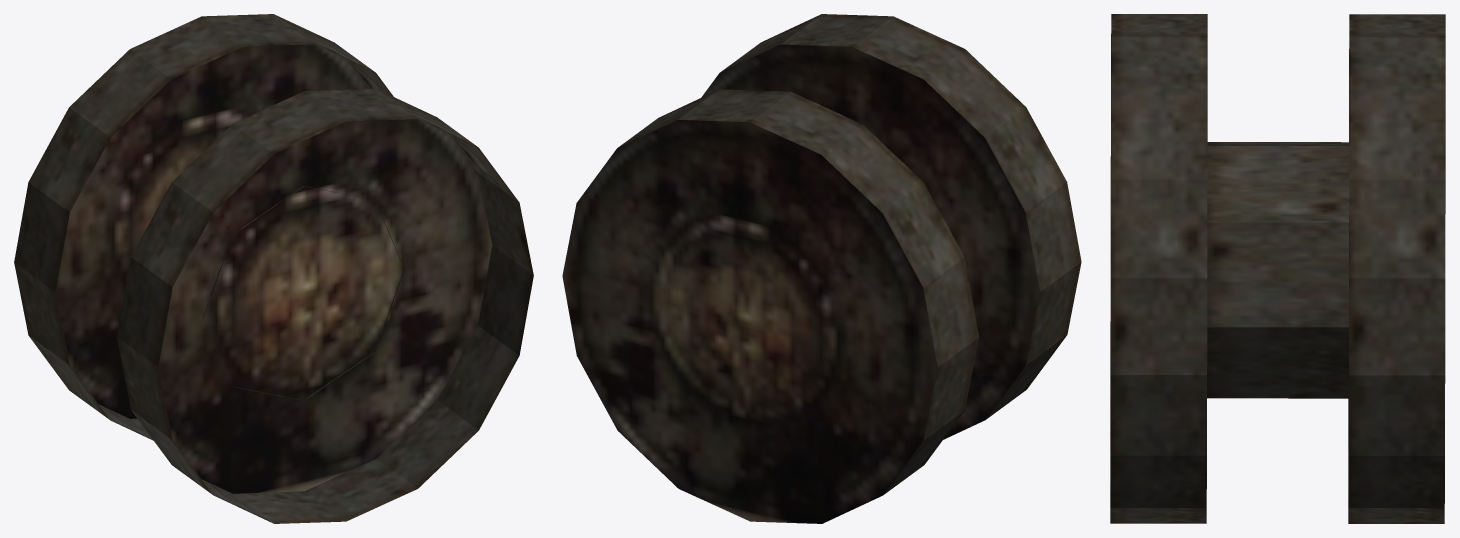
3 views of the same model, side by side, from view 1: azimuth 30°, elevation 25°; view 2: azimuth 150°, elevation 25°; view 3: azimuth 270°, elevation 25° (orthographic). The views are drawn at different scales.
Visible parts, largest first — view 1: rw_s_DrawCall_8_DrawCall_8.003; view 2: rw_s_DrawCall_8_DrawCall_8.003; view 3: rw_s_DrawCall_8_DrawCall_8.003.
Boxes of the visible parts, x1,y1,x2,y2 form: rw_s_DrawCall_8_DrawCall_8.003: [14, 14, 533, 523]; rw_s_DrawCall_8_DrawCall_8.003: [562, 14, 1081, 523]; rw_s_DrawCall_8_DrawCall_8.003: [1110, 14, 1445, 523].
Size of the model in its own units: 0.5532 by 0.5632 by 0.3688.
Materials: 1 (1 with a texture image).
